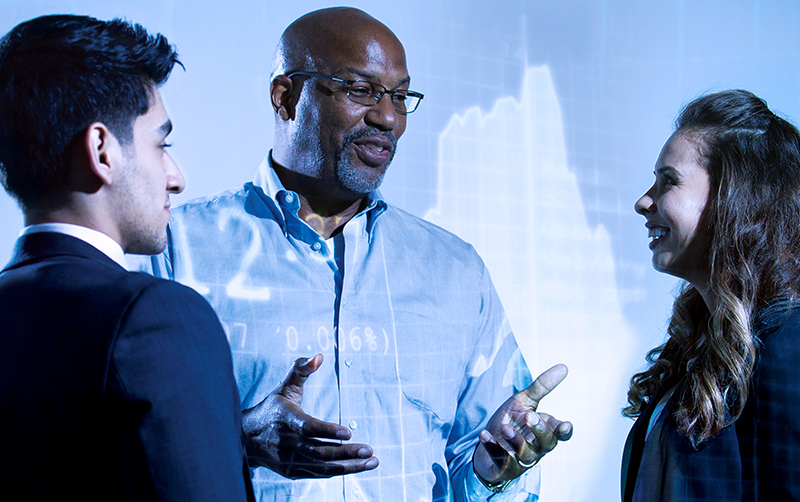Person: (220, 11, 540, 502), (1, 11, 232, 499), (632, 63, 800, 479)
